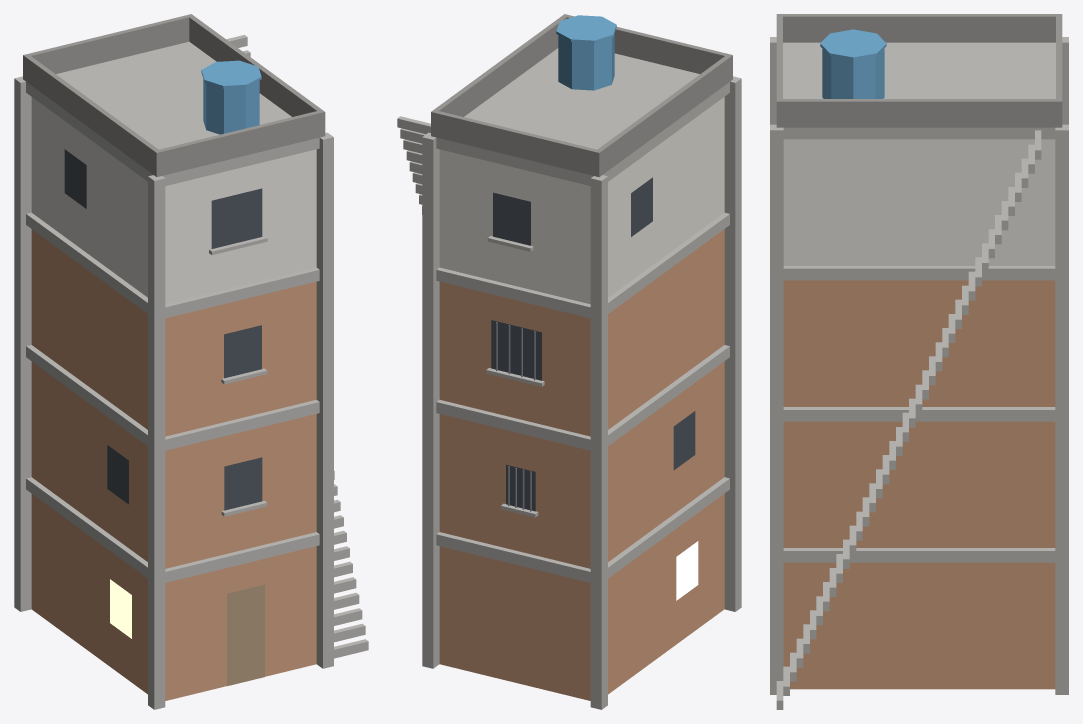
The model's file is fv_house_e.glb.
3 views of the same model, side by side, from view 1: azimuth 30°, elevation 25°; view 2: azimuth 150°, elevation 25°; view 3: azimuth 270°, elevation 25° (orthographic). The views are drawn at different scales.
Visible parts, largest first — view 1: fv_house_e; view 2: fv_house_e; view 3: fv_house_e.
Boxes of the visible parts, <box> form: fv_house_e: <box>14,14,368,709</box>; fv_house_e: <box>397,14,741,709</box>; fv_house_e: <box>770,14,1068,709</box>.
Size of the model in its own units: 5.16 by 13.15 by 5.76.
